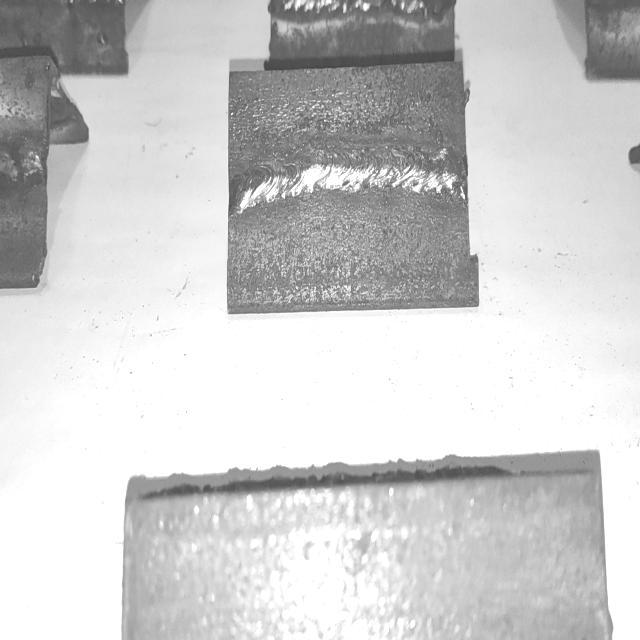Defect: (0, 138, 49, 189)
Welding Line: (231, 144, 464, 210)
Workpiece: (120, 467, 609, 640), (225, 56, 470, 315), (0, 42, 52, 289)
